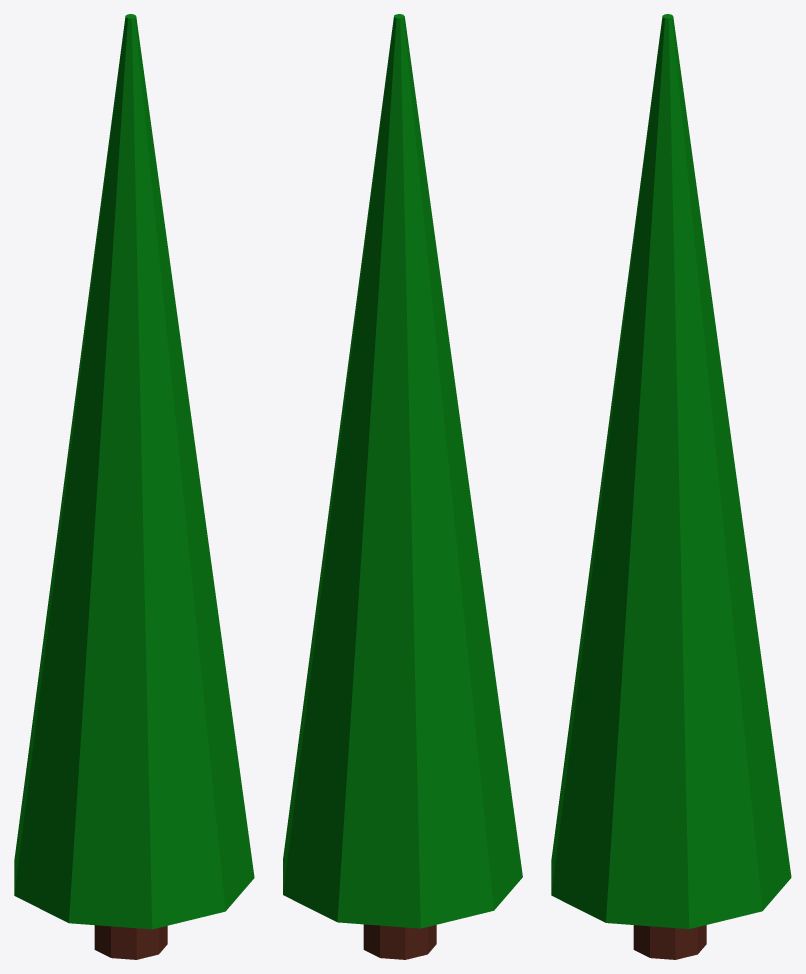
The model's file is tree_greek.fbx.
3 renders of one model, left to right at view 1: azimuth 30°, elevation 25°; view 2: azimuth 150°, elevation 25°; view 3: azimuth 270°, elevation 25°, orthographic.
Visible parts, largest first — view 1: Cylinder; view 2: Cylinder; view 3: Cylinder.
Boxes of the visible parts, left/top/right/bottom form: Cylinder: left=14, top=14, right=254, bottom=959; Cylinder: left=283, top=14, right=522, bottom=959; Cylinder: left=551, top=14, right=791, bottom=959.
Bounding box in the file's own units: 197 × 827 × 194.
